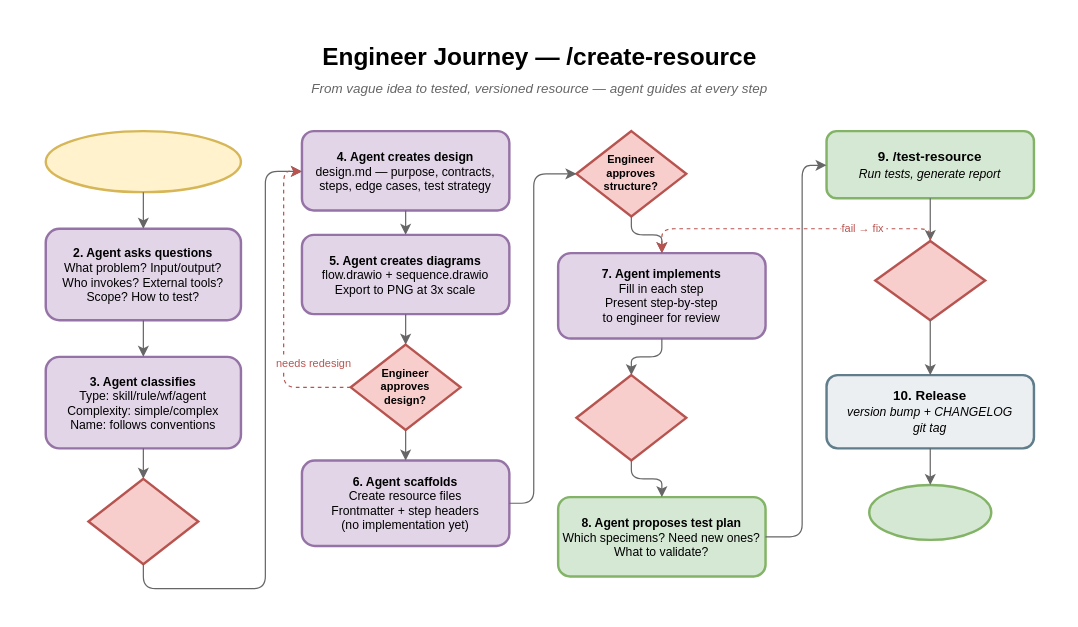
The diagram is 1078 pixels wide and 627 high, and some of its shapes have lost their labels. The shapes that lost their labels are listed below. From the top down, each one's centre as x and y in pixels, then its label:
point 143,161: 1. Engineer has idea
point 930,280: Tests pass?
point 631,417: Engineer approves impl?
point 143,521: Engineer approves?
point 929,511: DONE ✓
